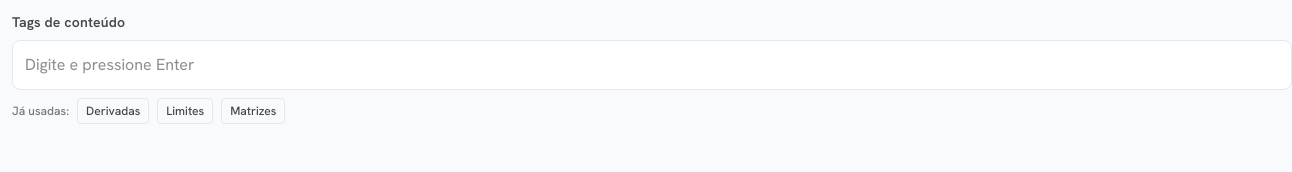
it: TagField › narrows the suggestions as the teacher types
This screenshot has width=1292, height=172.
Expected: the button "Limites" is shown, [157, 98, 213, 124]
In the field labelled "Tags de conteúdo": [652, 65] box [21, 49, 1283, 81], type "Ma"
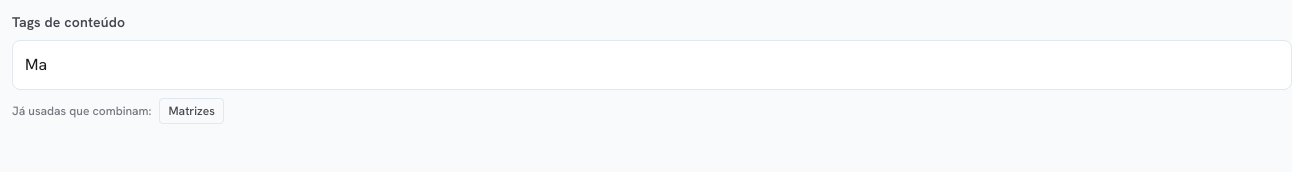
Expected: the button "Matrizes" is shown, [160, 98, 224, 124]
Expected: the button "Limites" is gone
